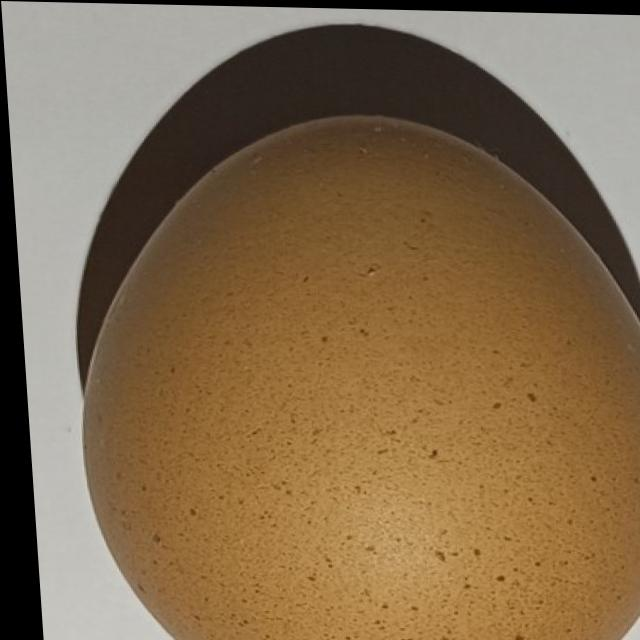unfresh: (52, 91, 640, 640)
